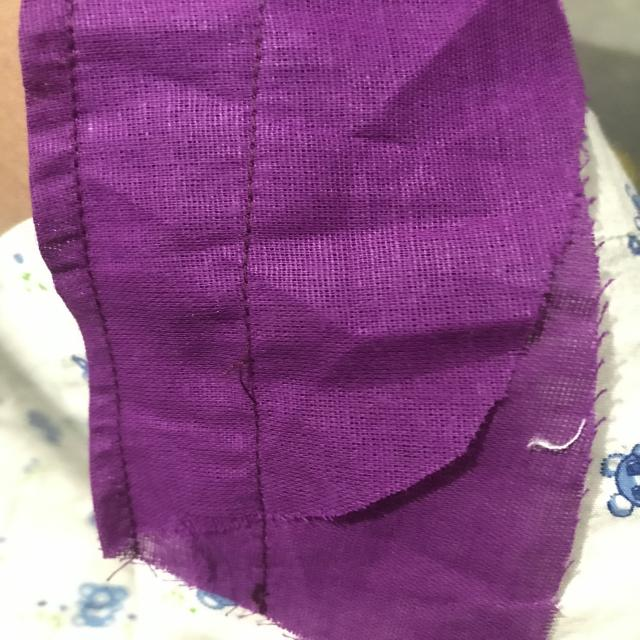skip: (207, 341, 285, 418)
